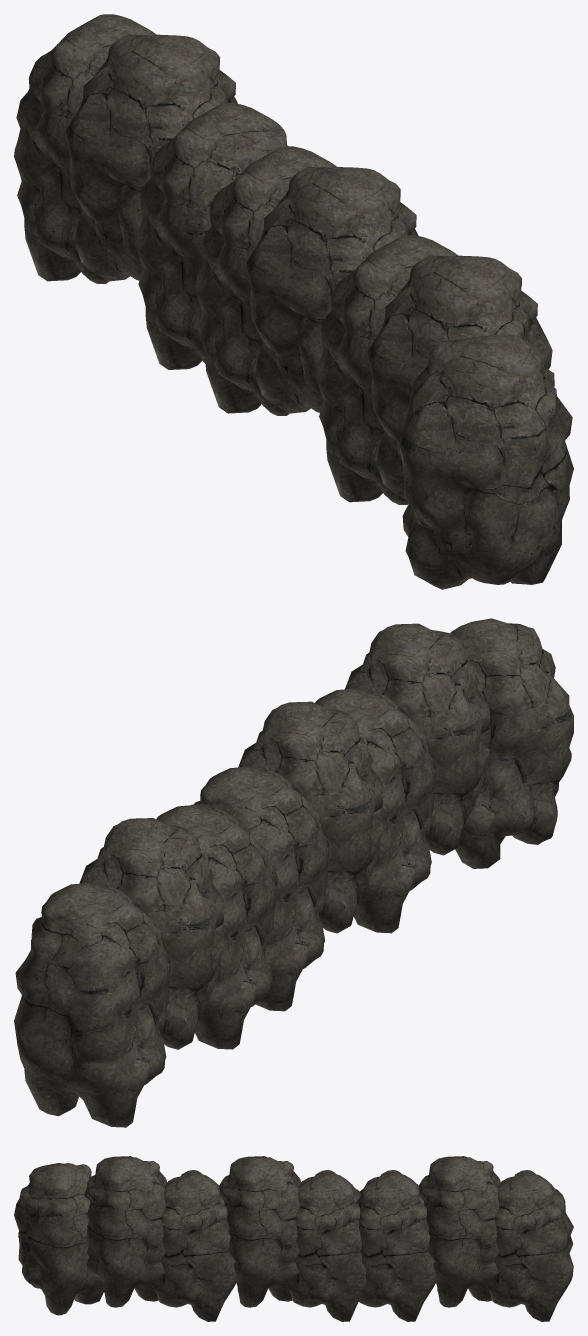
File: TwinPeakRocksShape.dae
3 views of the same model, one above another, from view 1: azimuth 30°, elevation 25°; view 2: azimuth 150°, elevation 25°; view 3: azimuth 270°, elevation 25° (orthographic). The views are drawn at different scales.
Visible parts, largest first — view 1: TwinPeakRocks; view 2: TwinPeakRocks; view 3: TwinPeakRocks.
Boxes of the visible parts, left/top/right/bottom form: TwinPeakRocks: left=14, top=14, right=573, bottom=589; TwinPeakRocks: left=14, top=618, right=573, bottom=1127; TwinPeakRocks: left=14, top=1156, right=573, bottom=1321.
Bounding box in the file's own units: 50.62 × 67.87 × 222.
